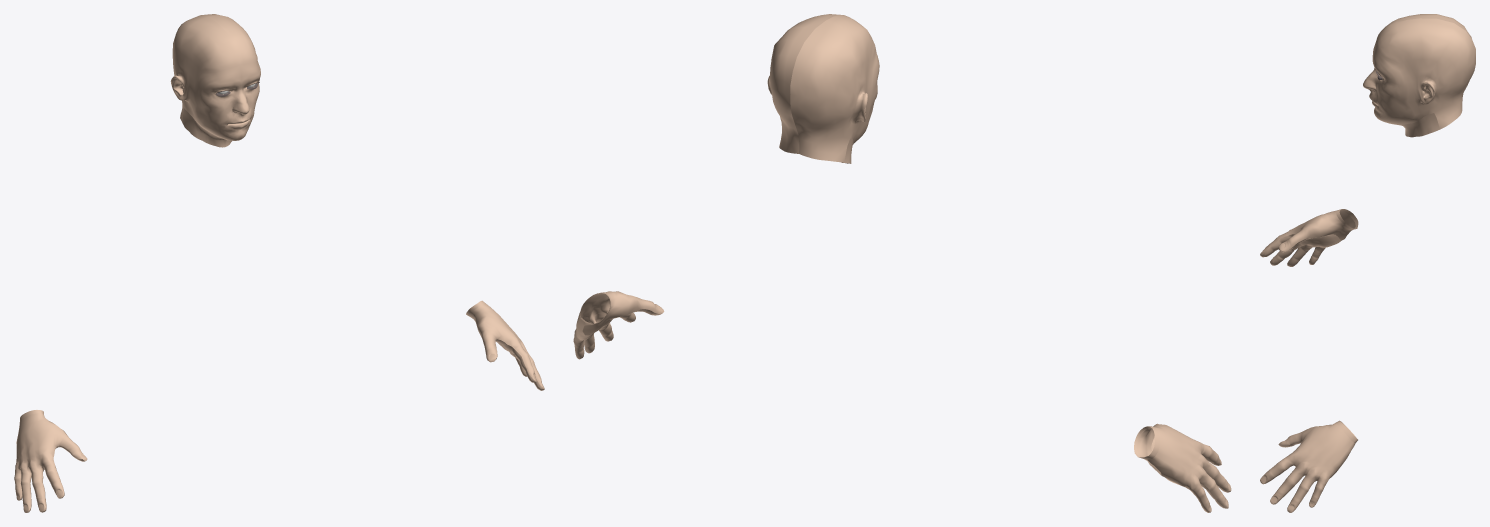
The model's file is body_field_suit.glb.
The picture shows the model from 3 angles, left to right: view 1: azimuth 30°, elevation 25°; view 2: azimuth 150°, elevation 25°; view 3: azimuth 270°, elevation 25°; orthographic projection. The views are drawn at different scales.
Parts seen in each view (by area): view 1: Body; view 2: Body; view 3: Body.
Boxes of the visible parts, x1=… form: Body: x1=14, y1=14, x2=544, y2=512; Body: x1=573, y1=14, x2=1231, y2=512; Body: x1=1260, y1=14, x2=1475, y2=512.
Bounding box in the file's own units: 1.15 × 0.8016 × 0.4227.
